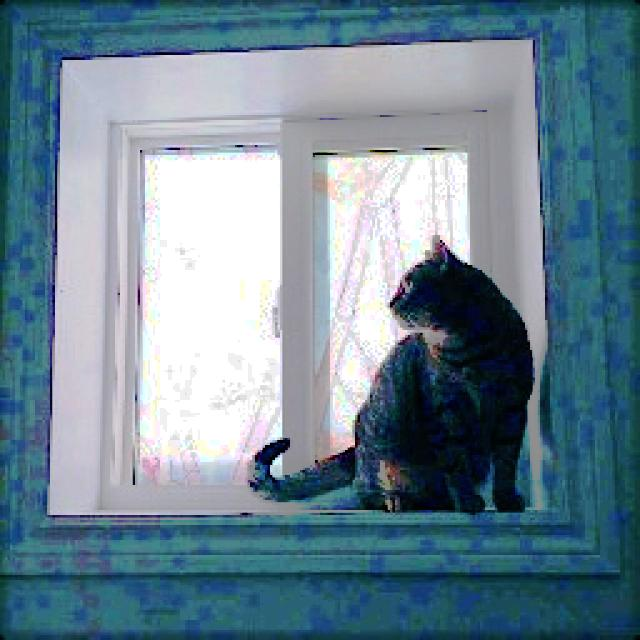cat: (258, 233, 544, 554)
